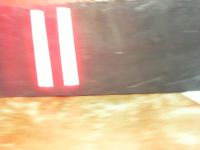switch: (29, 9, 55, 87), (55, 7, 79, 86)
